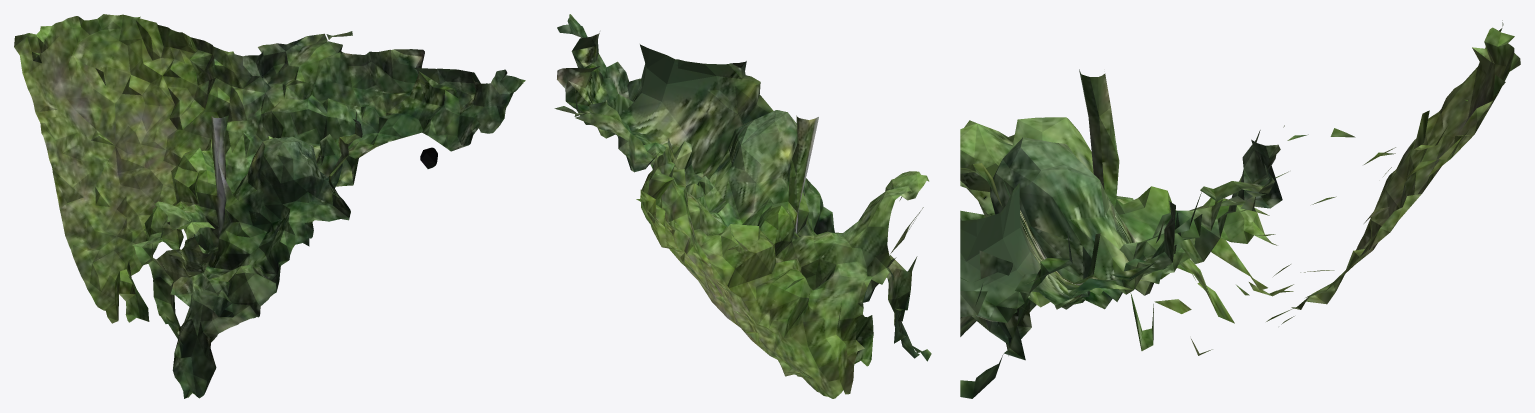
3 views of the same model, side by side, from view 1: azimuth 30°, elevation 25°; view 2: azimuth 150°, elevation 25°; view 3: azimuth 270°, elevation 25° (orthographic). The views are drawn at different scales.
Size of the model in its own units: 25.12 by 17.01 by 22.99.
3 materials, 3 textured.
